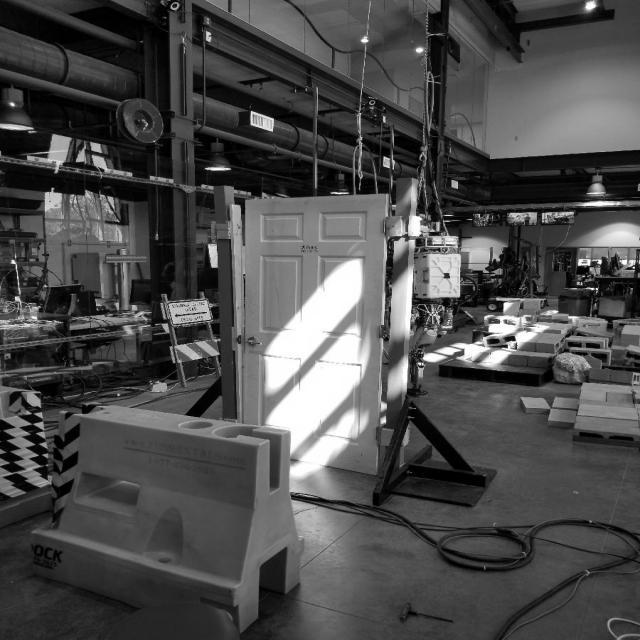door: (237, 193, 389, 483), (246, 338, 266, 349)
